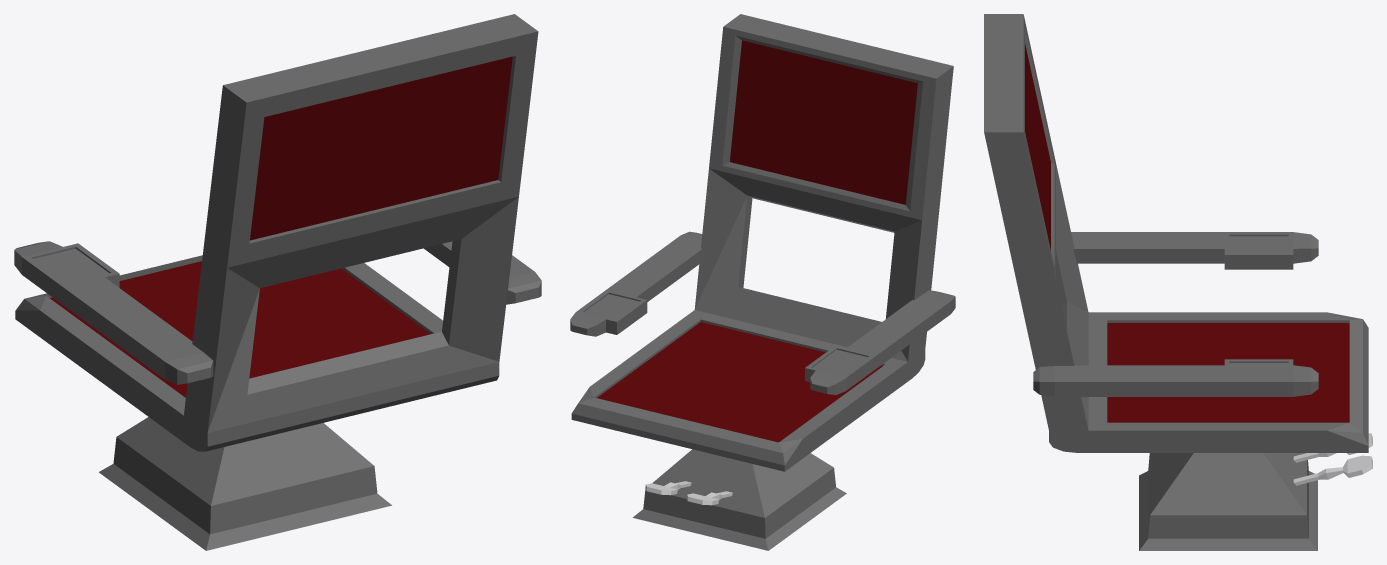
The model's file is BridgeSeat.glb.
The picture shows the model from 3 angles, left to right: view 1: azimuth 30°, elevation 25°; view 2: azimuth 150°, elevation 25°; view 3: azimuth 270°, elevation 25°; orthographic projection. The views are drawn at different scales.
Visible parts, largest first — view 1: Seat.003, Cube.023; view 2: Seat.003, Cube.023, Cube.024; view 3: Seat.003, Cube.023, Cube.024.
Boxes of the visible parts, x1,y1,x2,y2 form: Seat.003: (15,14,538,550); Cube.023: (14,241,541,384); Seat.003: (571,14,953,550); Cube.023: (570,231,955,395); Cube.024: (645,481,732,505); Seat.003: (984,14,1368,550); Cube.023: (1033,232,1318,396); Cube.024: (1293,433,1372,485).
Size of the model in its own units: 0.8209 by 1.12 by 0.8998.
